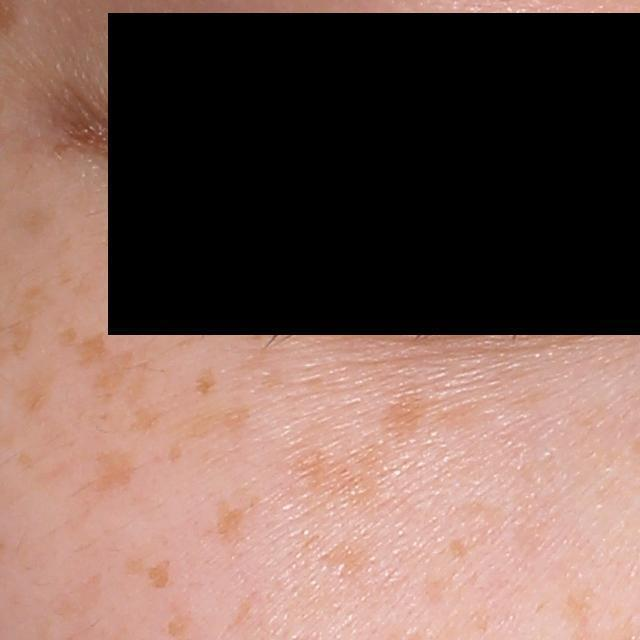melasma: (295, 454, 373, 505), (383, 393, 434, 443), (66, 331, 116, 371), (91, 450, 137, 492), (212, 501, 248, 545), (142, 560, 180, 600), (323, 546, 371, 577), (185, 367, 216, 401), (448, 537, 473, 563)
